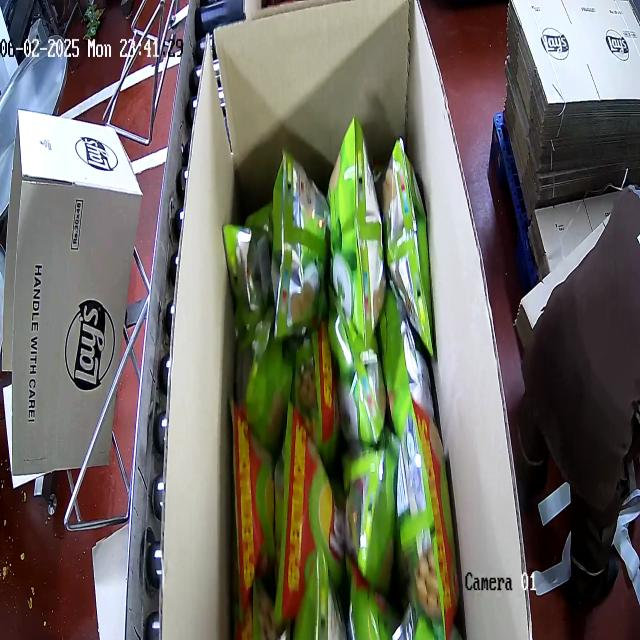YOGURT_HERB: (206, 95, 465, 640)
